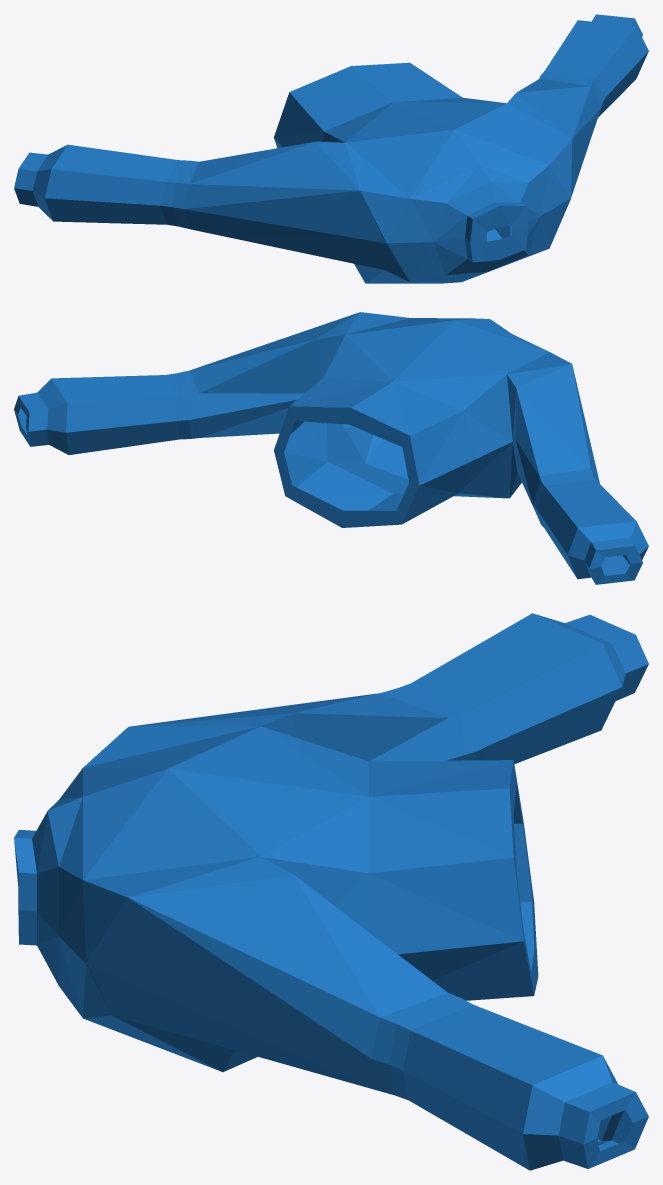
File: crewneck.obj
The picture shows the model from 3 angles, top to bottom: view 1: azimuth 30°, elevation 25°; view 2: azimuth 150°, elevation 25°; view 3: azimuth 270°, elevation 25°; orthographic projection. The views are drawn at different scales.
Visible parts, largest first — view 1: shirt3; view 2: shirt3; view 3: shirt3.
Part boxes in pixels (bbox=[...]): shirt3: bbox=[14, 14, 648, 283]; shirt3: bbox=[14, 312, 648, 584]; shirt3: bbox=[14, 613, 648, 1170].
Bounding box in the file's own units: 6.51 × 1.61 × 3.44.
